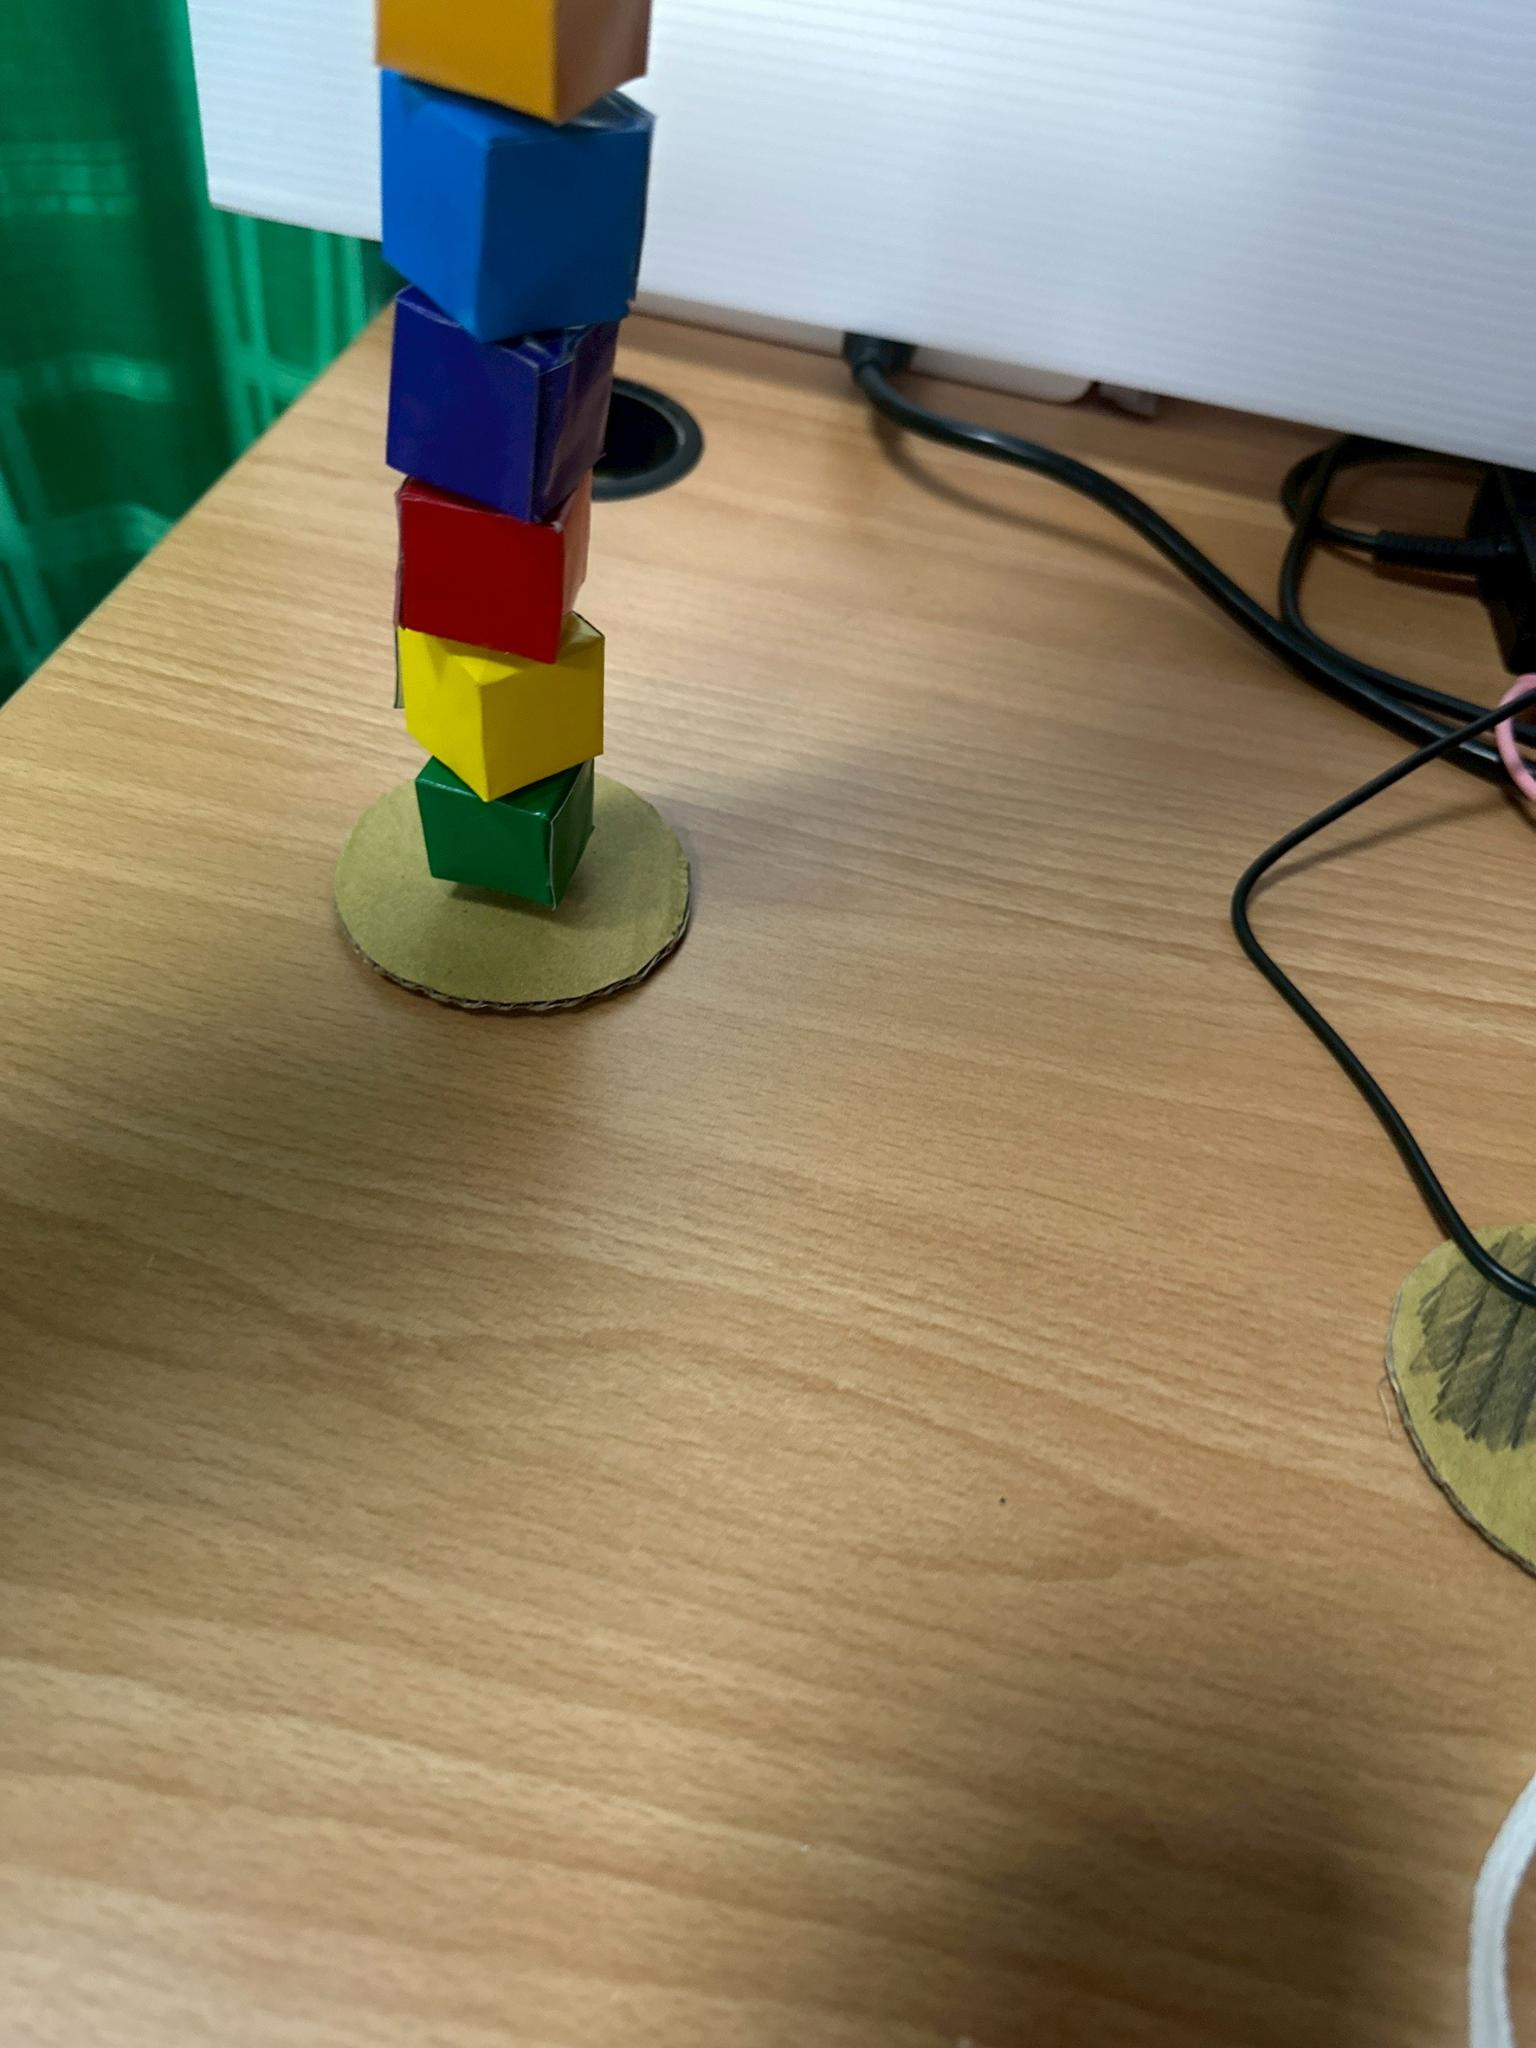base: (334, 768, 692, 1011)
